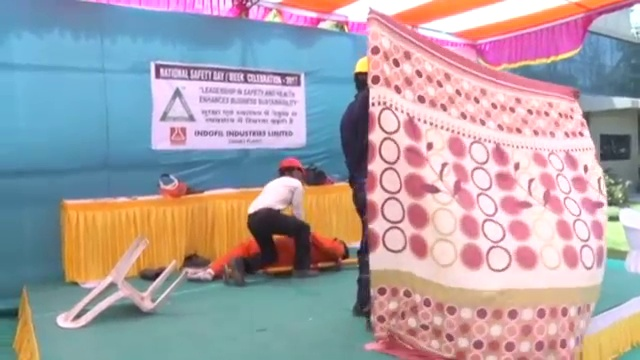helmet: (278, 156, 305, 172), (353, 54, 370, 74)
helmet_on: (352, 53, 370, 99), (276, 156, 306, 182)
person: (229, 156, 321, 283), (338, 52, 377, 316), (190, 236, 350, 281)
